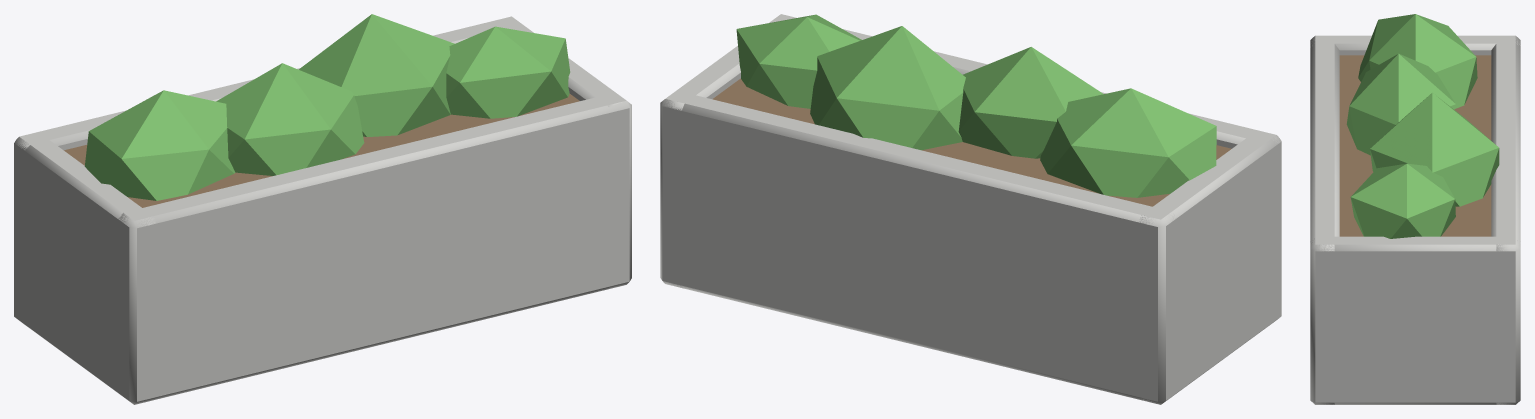
Rendered from Planter.fbx.
3 views of the same model, side by side, from view 1: azimuth 30°, elevation 25°; view 2: azimuth 150°, elevation 25°; view 3: azimuth 270°, elevation 25° (orthographic). The views are drawn at different scales.
Visible parts, largest first — view 1: Planter; view 2: Planter; view 3: Planter.
Part boxes in pixels (box(x1,y1,x2,y2)): Planter: box(14, 14, 631, 404); Planter: box(660, 14, 1281, 404); Planter: box(1310, 14, 1520, 404).
Bounding box in the file's own units: 1.2 × 0.61 × 0.5.
